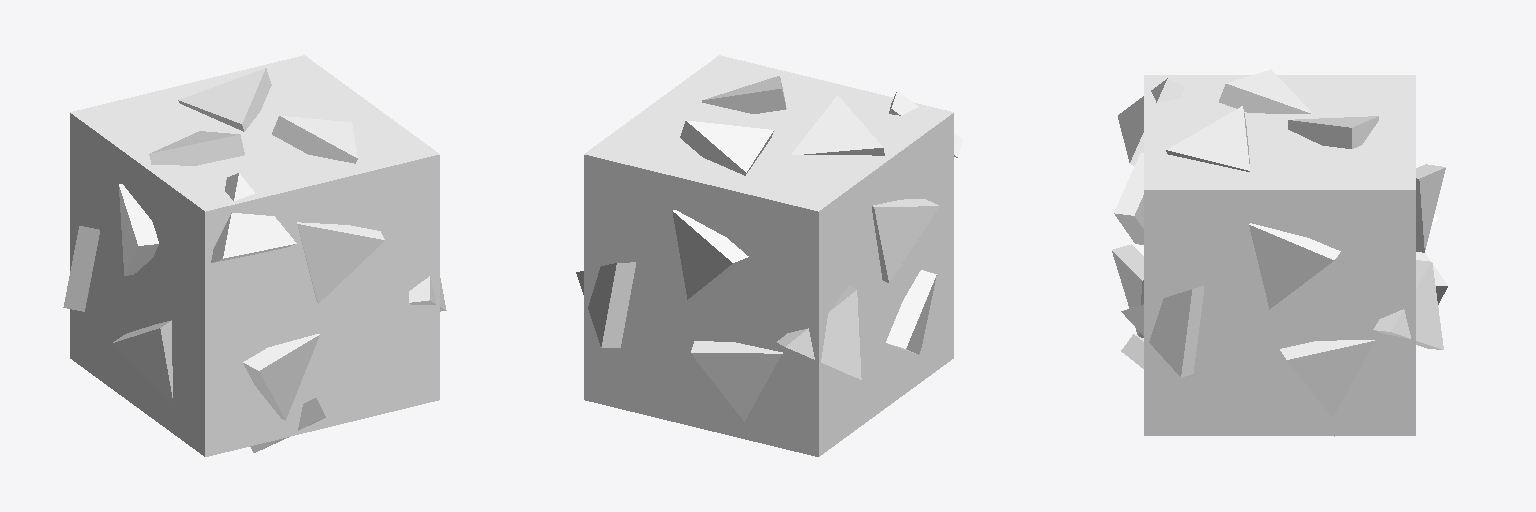
The model's file is qlear.obj.
3 views of the same model, side by side, from view 1: azimuth 30°, elevation 25°; view 2: azimuth 150°, elevation 25°; view 3: azimuth 270°, elevation 25° (orthographic).
Parts seen in each view (by area): view 1: Cube.001, Cube.002; view 2: Cube.001, Cube.002; view 3: Cube.001, Cube.002.
Part boxes in pixels (x1,y1,x2,y2): Cube.001: (70, 55, 439, 456); Cube.002: (63, 68, 446, 452); Cube.001: (584, 55, 953, 456); Cube.002: (576, 76, 962, 421); Cube.001: (1144, 75, 1415, 435); Cube.002: (1112, 69, 1447, 436).
Size of the model in its own units: 1.23 by 1.24 by 1.24.